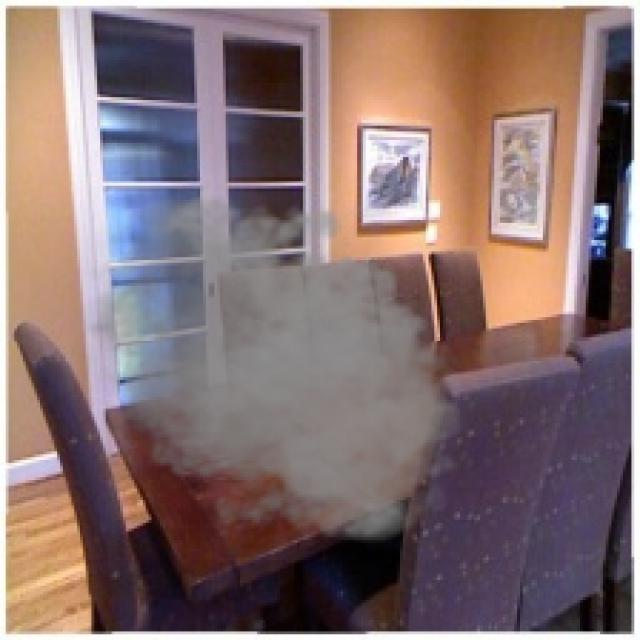smoke: (66, 183, 474, 548)
